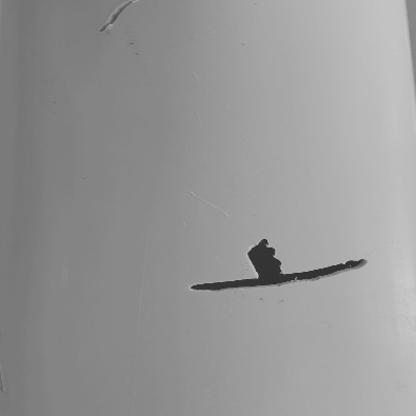fengxi: (191, 259, 369, 292), (98, 1, 139, 32)
kongdong: (245, 238, 289, 278)
